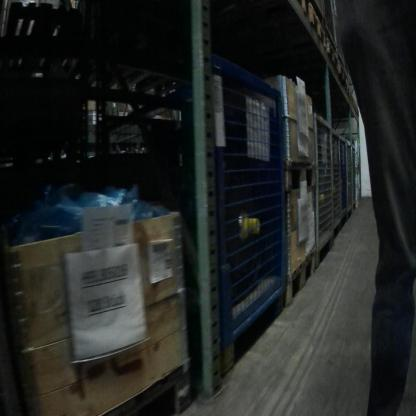pallet: (1, 3, 135, 135), (110, 357, 203, 412), (284, 248, 316, 306), (284, 159, 313, 195), (309, 5, 325, 52), (326, 28, 337, 78), (337, 55, 348, 93), (288, 1, 308, 21), (343, 83, 352, 103), (351, 96, 358, 113)
stillage: (97, 55, 291, 377), (312, 109, 333, 270), (338, 132, 347, 227), (332, 126, 339, 239), (344, 137, 352, 221), (352, 139, 359, 211)
